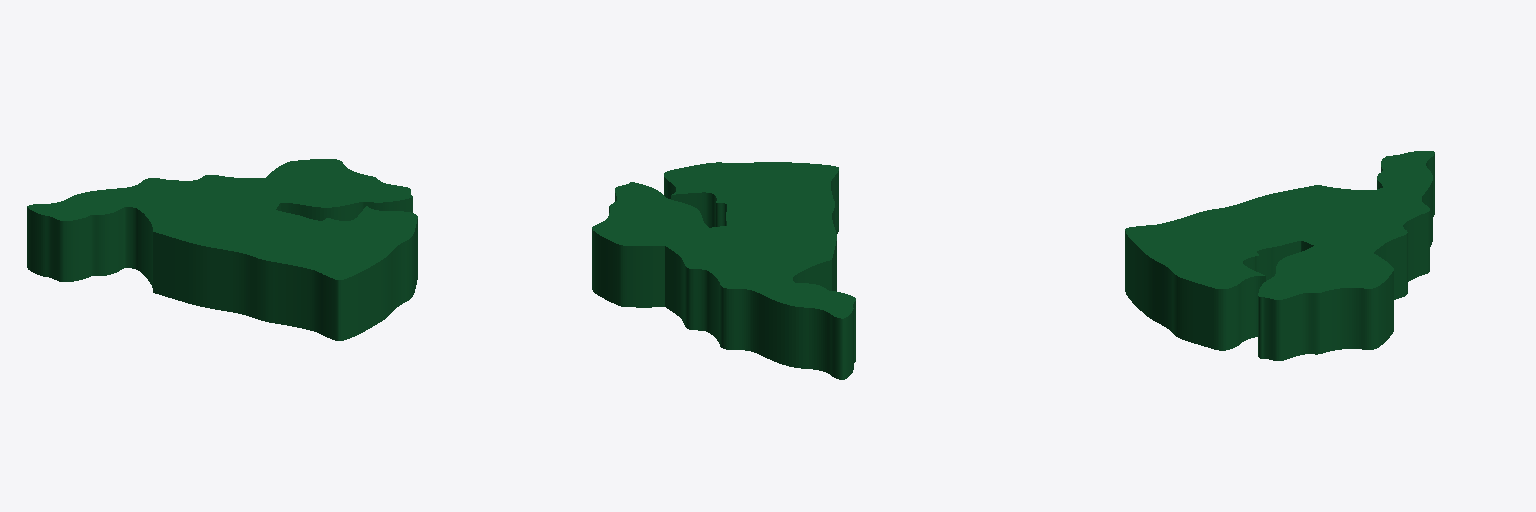
File: Asia_07.obj
3 views of the same model, side by side, from view 1: azimuth 30°, elevation 25°; view 2: azimuth 150°, elevation 25°; view 3: azimuth 270°, elevation 25° (orthographic).
Parts seen in each view (by area): view 1: Asia_07_path4250; view 2: Asia_07_path4250; view 3: Asia_07_path4250.
Boxes of the visible parts, x1=… form: Asia_07_path4250: x1=27, y1=159, x2=417, y2=340; Asia_07_path4250: x1=592, y1=162, x2=855, y2=379; Asia_07_path4250: x1=1125, y1=151, x2=1434, y2=360.
Size of the model in its own units: 0.5234 by 0.1 by 0.4579.